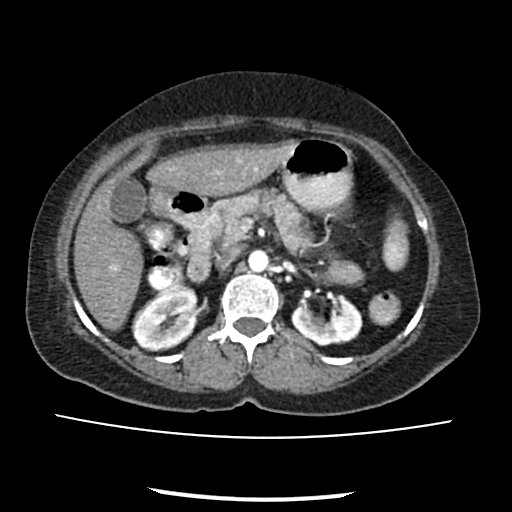aorta: (246, 247, 269, 274)
